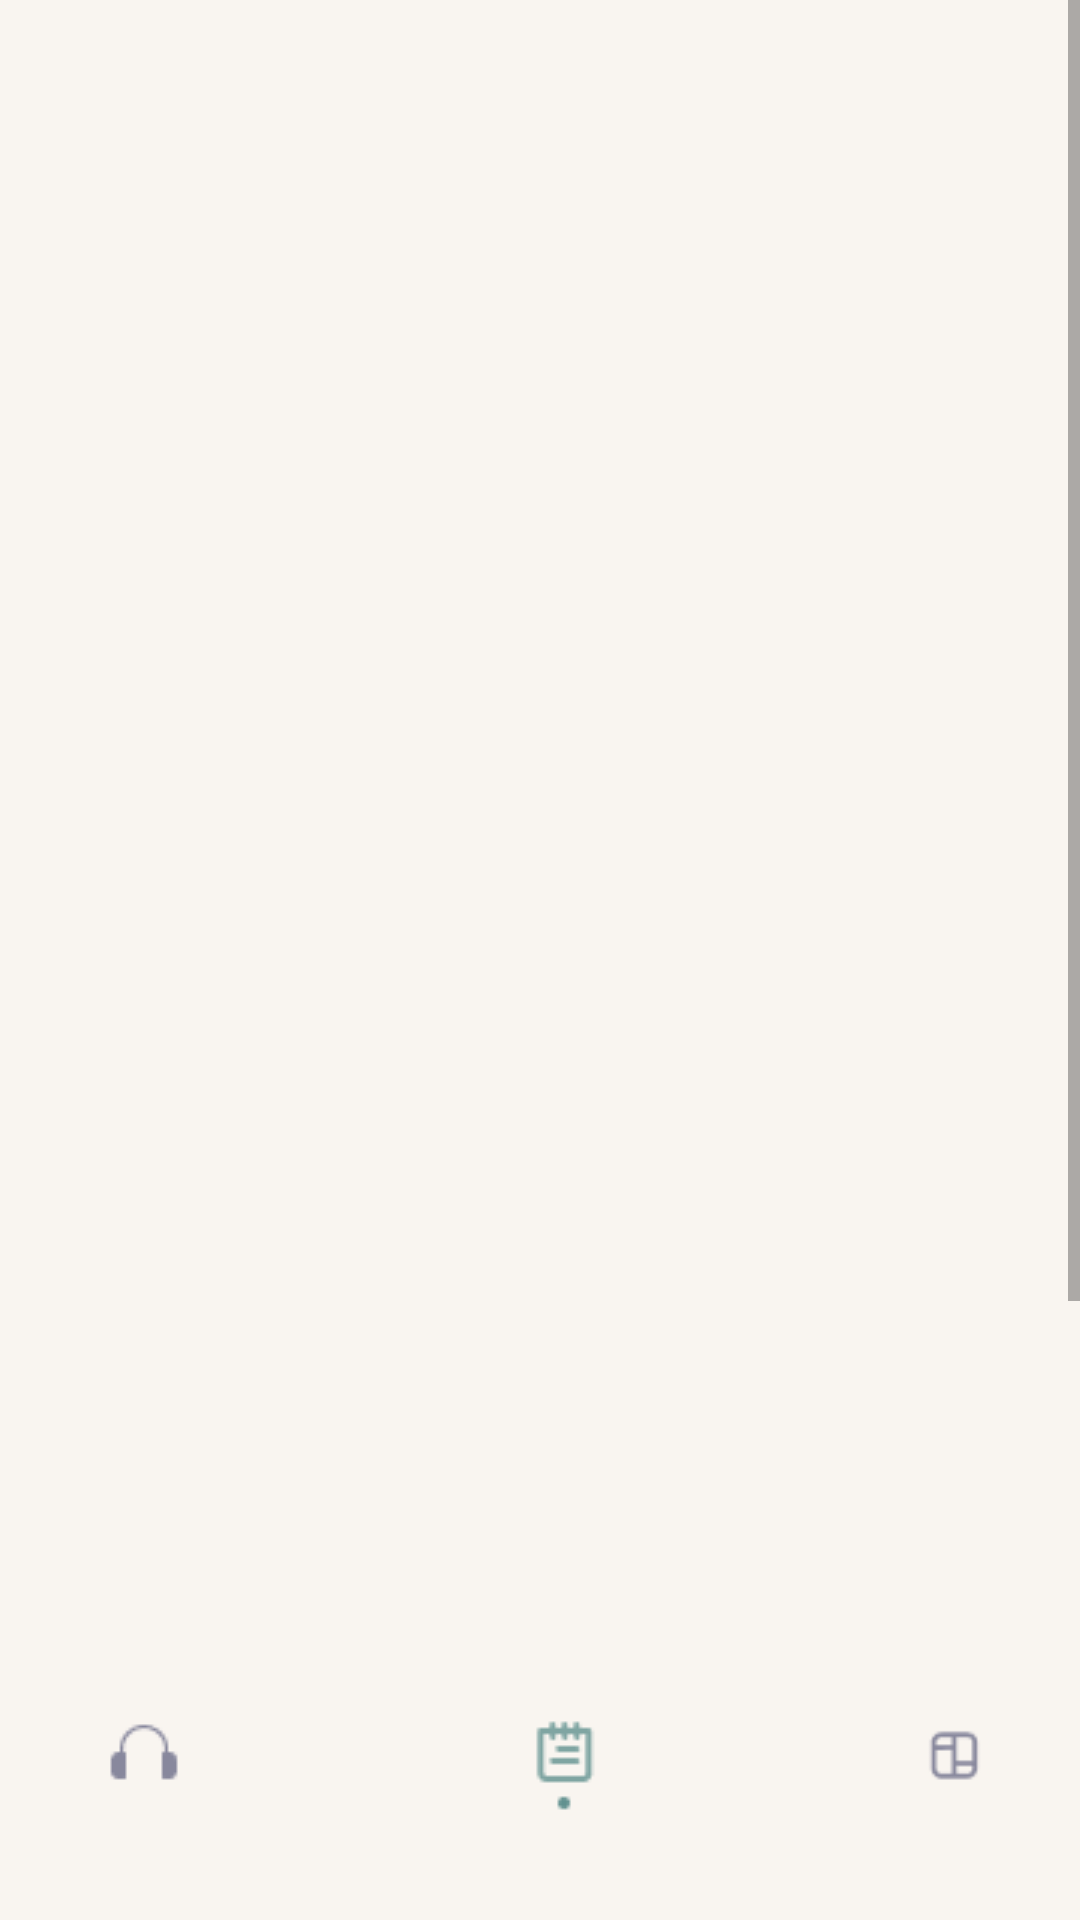

Named icons in this screenshot (1080×1920) and their centers, [x,y]:
mediation deactive: [144,1752]
record: [564,1765]
